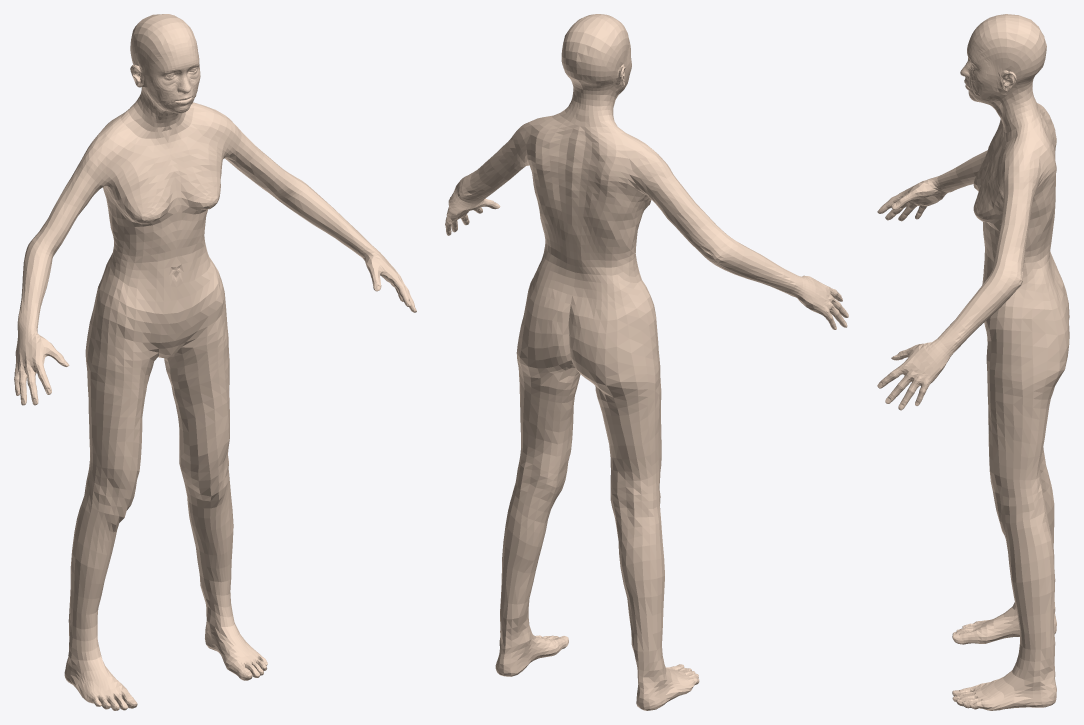
Rendered from female-older-lean-medium.glb.
3 renders of one model, left to right at view 1: azimuth 30°, elevation 25°; view 2: azimuth 150°, elevation 25°; view 3: azimuth 270°, elevation 25°, orthographic.
Visible parts, largest first — view 1: world; view 2: world; view 3: world.
Boxes of the visible parts, left/top/right/bottom form: world: left=14, top=14, right=416, bottom=710; world: left=445, top=14, right=848, bottom=710; world: left=877, top=14, right=1069, bottom=710.
Bounding box in the file's own units: 1.13 × 1.8 × 0.48.
